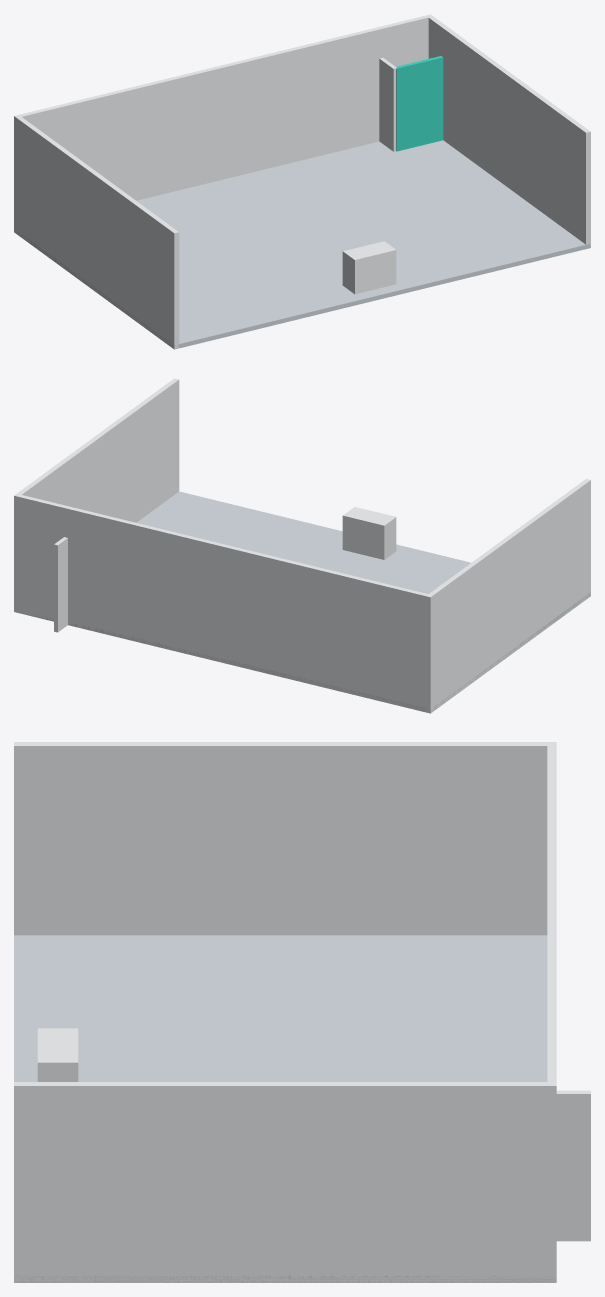
3 views of the same model, one above another, from view 1: azimuth 30°, elevation 25°; view 2: azimuth 150°, elevation 25°; view 3: azimuth 270°, elevation 25° (orthographic). The views are drawn at different scales.
Visible parts, largest first — view 1: Exhibition Booth Concept; view 2: Exhibition Booth Concept; view 3: Exhibition Booth Concept.
Boxes of the visible parts, x1=… form: Exhibition Booth Concept: x1=14, y1=14, x2=590, y2=349; Exhibition Booth Concept: x1=14, y1=378, x2=590, y2=713; Exhibition Booth Concept: x1=14, y1=742, x2=590, y2=1282.
Size of the model in its own units: 12 by 3.2 by 8.51.
